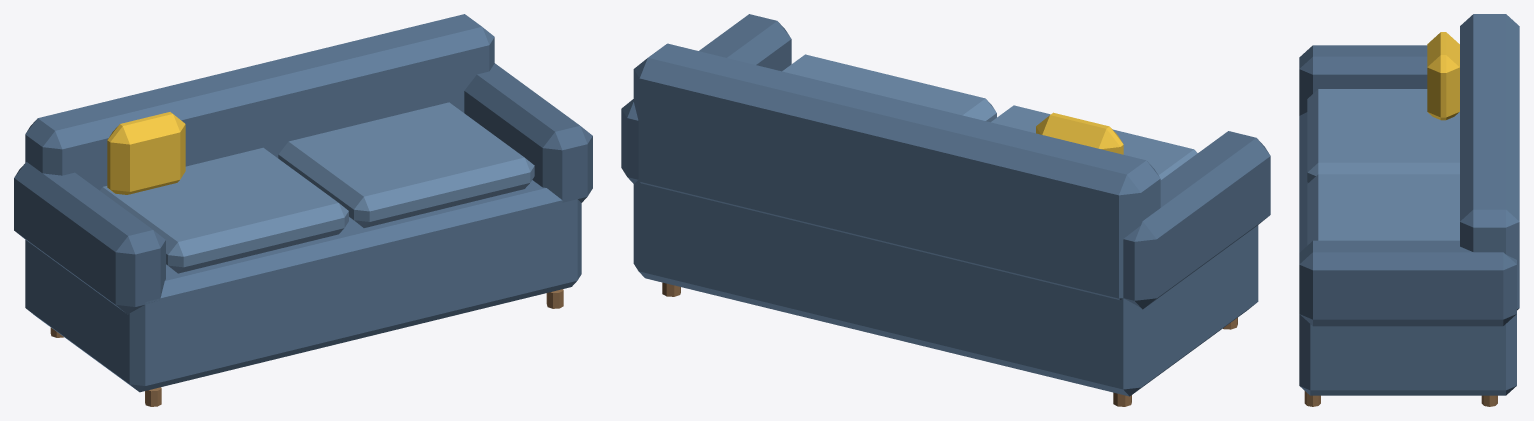
The model's file is sofa.glb.
3 views of the same model, side by side, from view 1: azimuth 30°, elevation 25°; view 2: azimuth 150°, elevation 25°; view 3: azimuth 270°, elevation 25° (orthographic). The views are drawn at different scales.
Parts seen in each view (by area): view 1: sofa_mesh; view 2: sofa_mesh; view 3: sofa_mesh.
Part boxes in pixels (x1,y1,x2,y2): sofa_mesh: [14, 14, 592, 406]; sofa_mesh: [621, 14, 1270, 406]; sofa_mesh: [1299, 14, 1519, 406].
Size of the model in its own units: 1.9 by 0.83 by 0.81.
